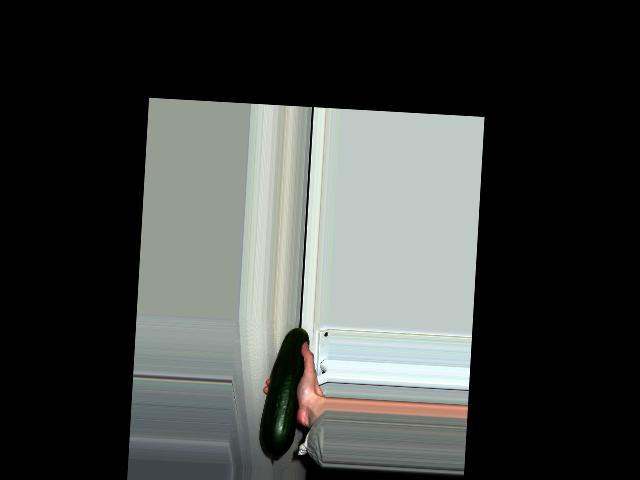cucumber: (257, 325, 309, 461)
